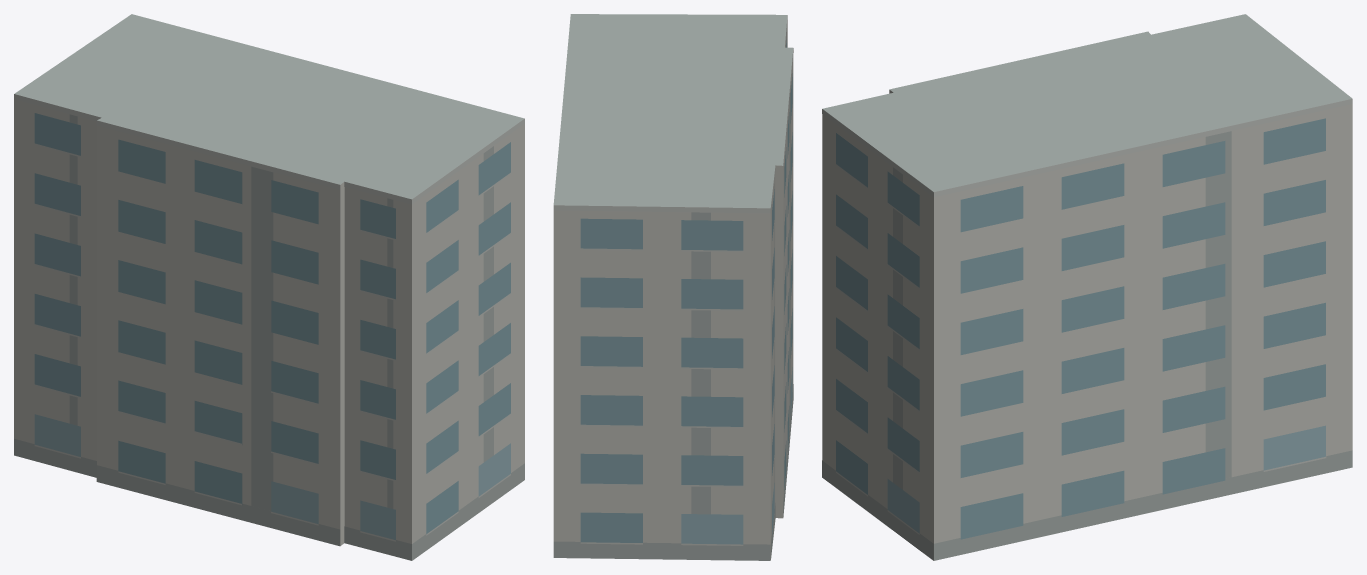
The model's file is survey-upis-32701524.glb.
The picture shows the model from 3 angles, left to right: view 1: azimuth 30°, elevation 25°; view 2: azimuth 150°, elevation 25°; view 3: azimuth 270°, elevation 25°; orthographic projection. The views are drawn at different scales.
Visible parts, largest first — view 1: survey-upis-32701524.tmp; view 2: survey-upis-32701524.tmp; view 3: survey-upis-32701524.tmp.
Boxes of the visible parts, x1,y1,x2,y2 form: survey-upis-32701524.tmp: (14,14,524,560); survey-upis-32701524.tmp: (553,14,793,560); survey-upis-32701524.tmp: (822,14,1352,560).
Size of the model in its own units: 17.31 by 16.7 by 21.79.
